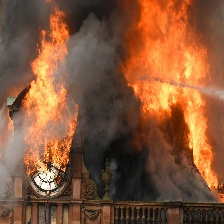fire: (134, 1, 220, 190), (23, 7, 69, 170)
smoke: (71, 2, 133, 191), (135, 124, 212, 199), (1, 2, 39, 79)
